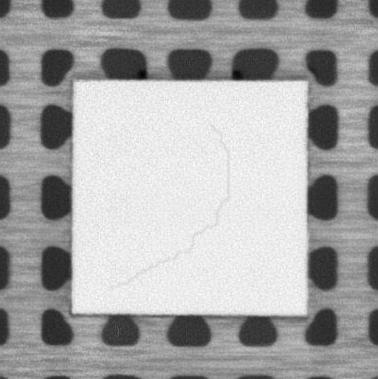DIE_CRACK: (103, 118, 229, 293)
